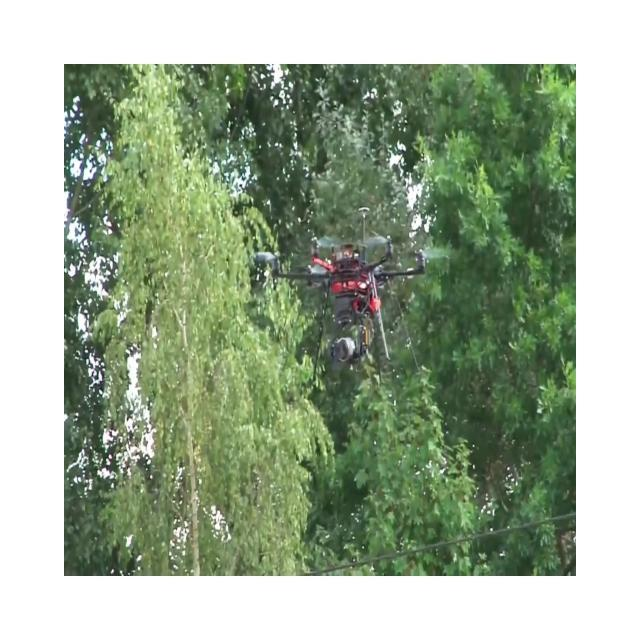drone: (248, 205, 427, 383)
